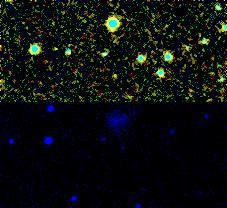star: (185, 21, 215, 51)
